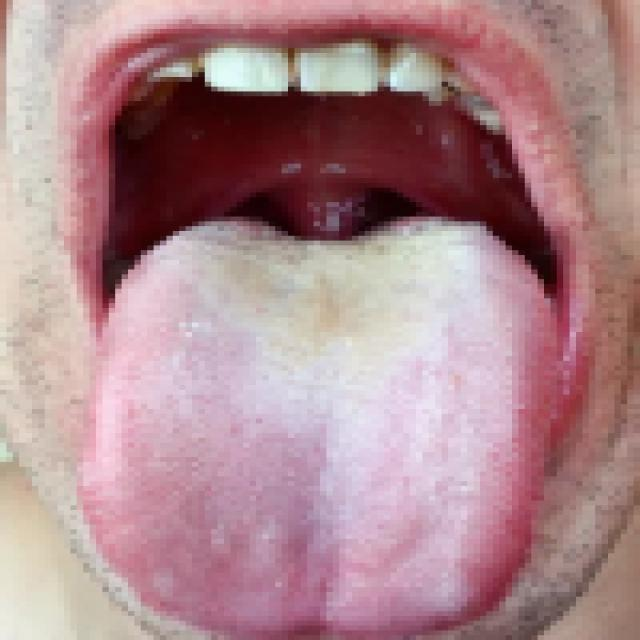No Cancer: (142, 80, 562, 317)
